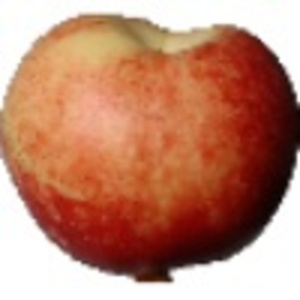nectarina: (1, 1, 300, 286)
